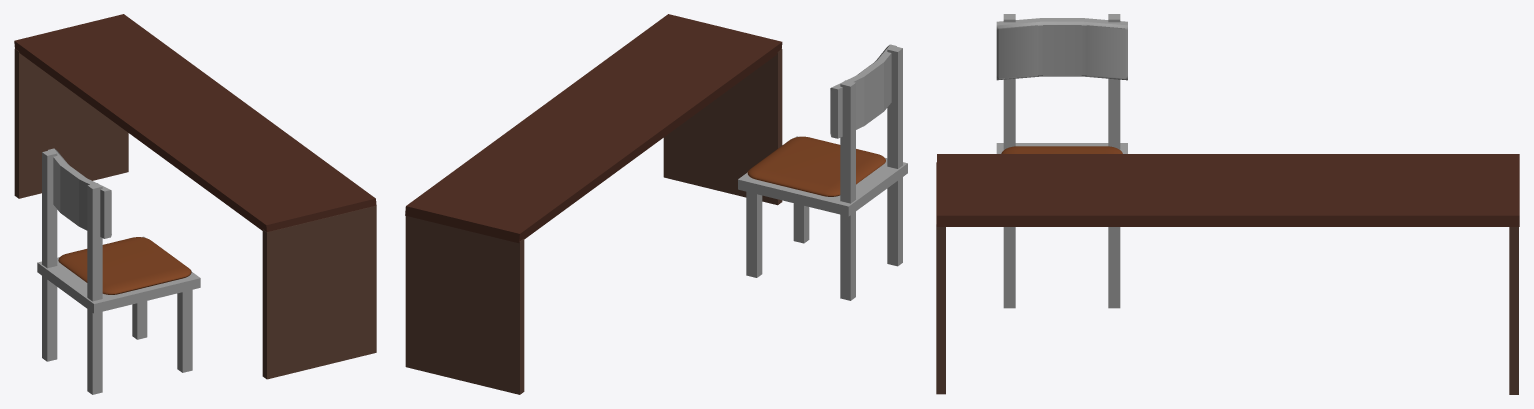
The model's file is Chair.fbx.
3 views of the same model, side by side, from view 1: azimuth 30°, elevation 25°; view 2: azimuth 150°, elevation 25°; view 3: azimuth 270°, elevation 25° (orthographic). The views are drawn at different scales.
Visible parts, largest first — view 1: Cube.001, Khối Lập Phương, Cube.008_Cube.007, Khối Lập Phương.001, Khối Lập Phương.002; view 2: Cube.001, Khối Lập Phương.001, Cube.008_Cube.007, Khối Lập Phương, Khối Lập Phương.002; view 3: Cube.001, Cube.008_Cube.007, Khối Lập Phương, Khối Lập Phương.001, Khối Lập Phương.002.
Boxes of the visible parts, x1,y1,x2,y2 form: Cube.001: [14, 14, 376, 231]; Khối Lập Phương: [262, 205, 376, 379]; Cube.008_Cube.007: [37, 148, 200, 394]; Khối Lập Phương.001: [14, 49, 128, 198]; Khối Lập Phương.002: [58, 237, 191, 294]; Cube.001: [405, 14, 782, 243]; Khối Lập Phương.001: [405, 216, 524, 394]; Cube.008_Cube.007: [738, 44, 907, 300]; Khối Lập Phương: [663, 49, 782, 205]; Khối Lập Phương.002: [747, 136, 885, 196]; Cube.001: [936, 154, 1519, 226]; Cube.008_Cube.007: [996, 14, 1127, 308]; Khối Lập Phương: [936, 162, 945, 394]; Khối Lập Phương.001: [1509, 227, 1518, 394]; Khối Lập Phương.002: [1001, 146, 1122, 153].
Bounding box in the file's own units: 1827 × 1400 × 3110.
